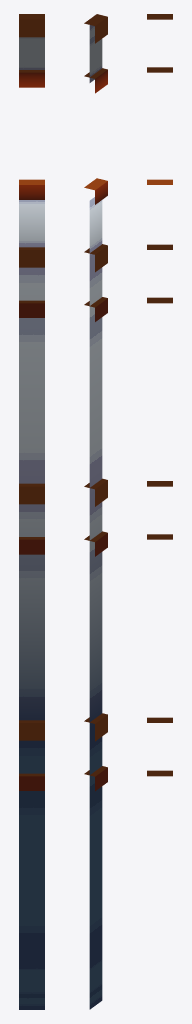
3 views of the same model, side by side, from view 1: azimuth 90°, elevation 25°; view 2: azimuth 150°, elevation 25°; view 3: azimuth 270°, elevation 25° (orthographic).
Size of the model in its own units: 0.5 by 42 by 1.
Materials: 2 (2 with a texture image).
